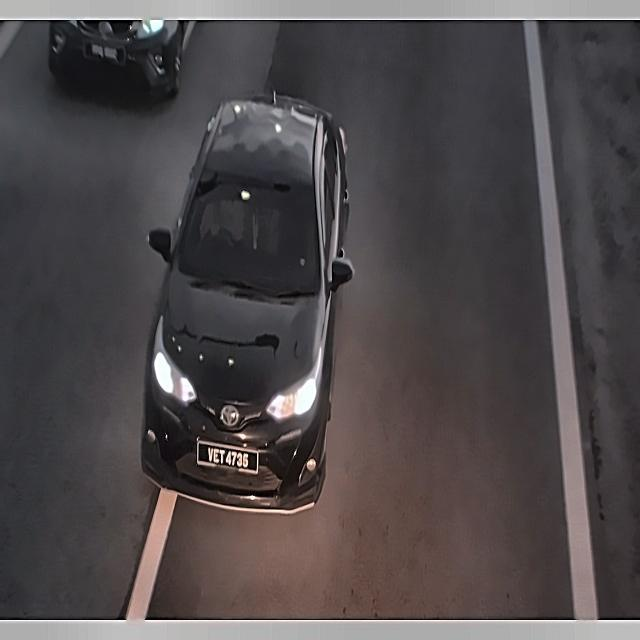car: (191, 431, 263, 484), (79, 34, 129, 73)
